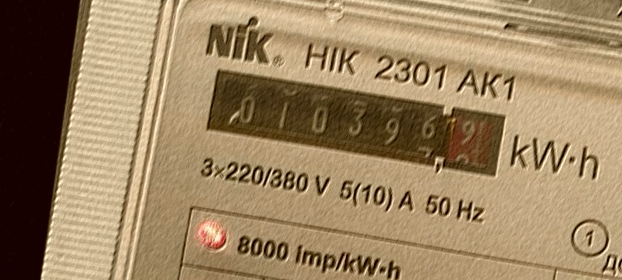0: (308, 100, 335, 136), (236, 90, 260, 125)
1: (276, 96, 294, 130)
3: (347, 104, 370, 139)
6: (418, 110, 443, 141)
9: (380, 112, 405, 148), (456, 116, 481, 149)
screen: (191, 54, 520, 191)
